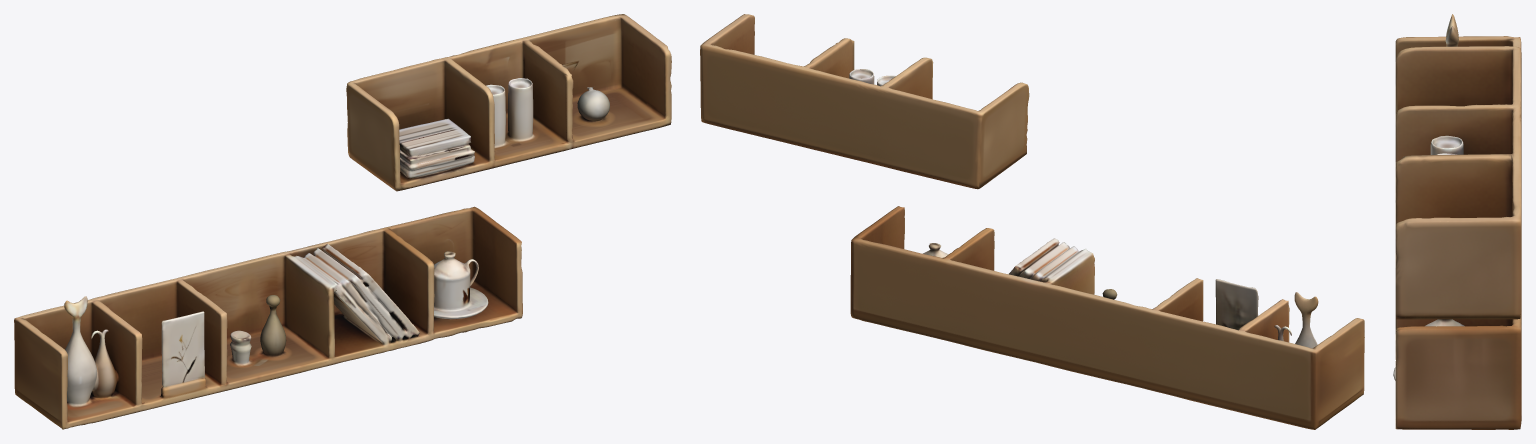
The model's file is 小柜子 (2).fbx.
3 views of the same model, side by side, from view 1: azimuth 30°, elevation 25°; view 2: azimuth 150°, elevation 25°; view 3: azimuth 270°, elevation 25° (orthographic). The views are drawn at different scales.
Parts seen in each view (by area): view 1: model; view 2: model; view 3: model.
Boxes of the visible parts, x1,y1,x2,y2 form: model: [14, 14, 671, 429]; model: [700, 14, 1364, 429]; model: [1393, 14, 1521, 429].
Bounding box in the file's own units: 177 × 65.13 × 24.78.
Materials: 1 (1 with a texture image).
